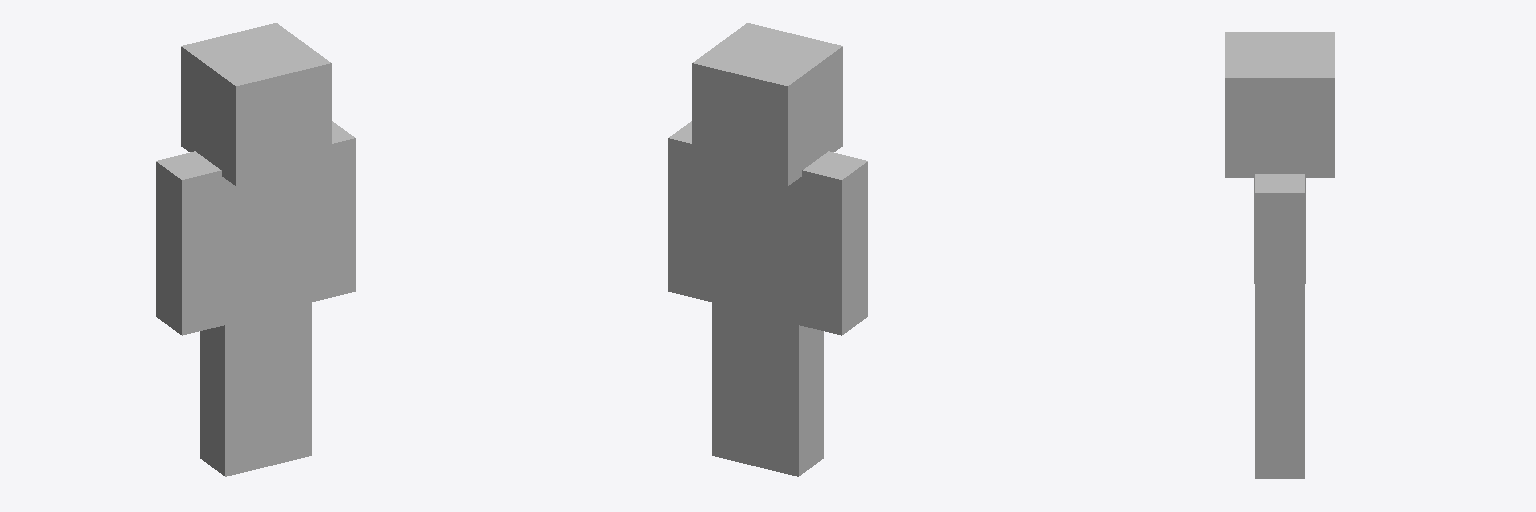
The model's file is vl_cosmetics_arm_right.obj.
The picture shows the model from 3 angles: view 1: azimuth 30°, elevation 25°; view 2: azimuth 150°, elevation 25°; view 3: azimuth 270°, elevation 25°; orthographic projection.
Parts seen in each view (by area): view 1: ArmrPreview_Cube.019, Arm_Right_Cube.003; view 2: ArmrPreview_Cube.019, Arm_Right_Cube.003; view 3: ArmrPreview_Cube.019.
Part boxes in pixels (x1,y1,x2,y2): ArmrPreview_Cube.019: (181,23,355,476); Arm_Right_Cube.003: (156,151,226,335); ArmrPreview_Cube.019: (668,23,842,476); Arm_Right_Cube.003: (797,151,867,335); ArmrPreview_Cube.019: (1225,32,1334,478).
Size of the model in its own units: 8.03 by 17.7 by 4.4.